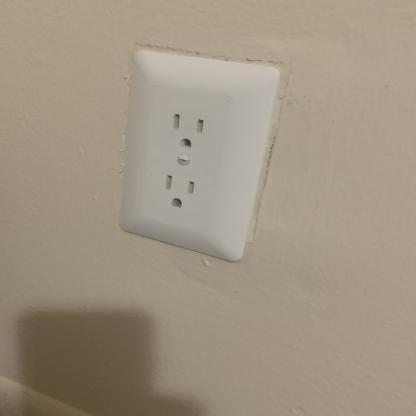OUTLET: (119, 48, 262, 262)
